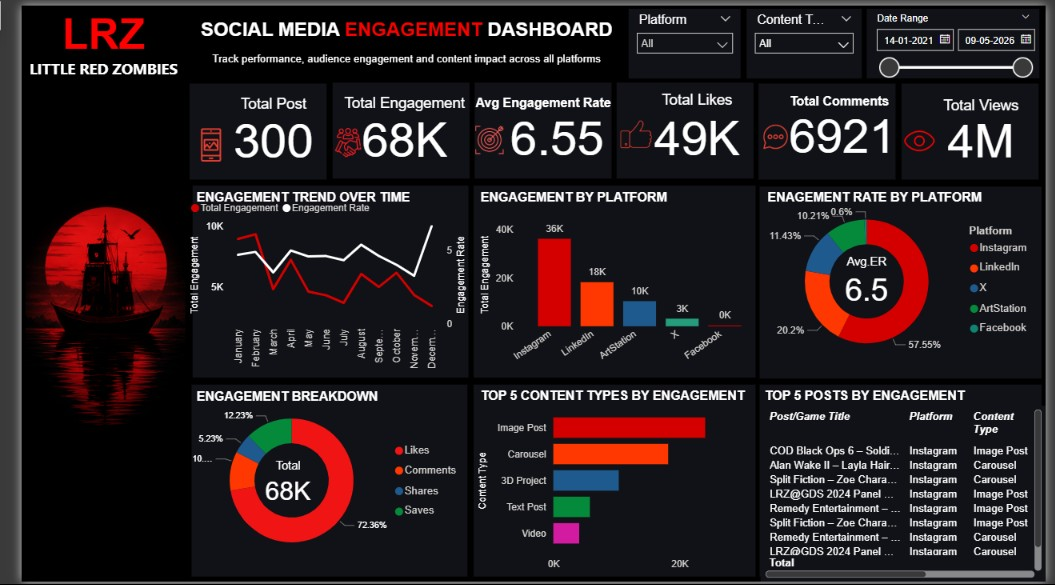

The dashboard page shown, as its layout file describes it:
{"tool":"powerbi","page":{"name":"Overview","canvas":[1280,720],"ordinal":0},"visuals":[{"type":"group","id":"g1","title":"Group 3","box":[210,96.2,1067.5,137.5],"z":0},{"type":"group","id":"g2","title":"Group 2","box":[210,96.2,1061.2,121.2],"z":0,"group":"g1"},{"type":"shape","box":[921.2,97.4,171.2,120],"z":0,"group":"g2"},{"type":"shape","box":[922.5,473.8,352.5,240],"z":0,"group":"g3"},{"type":"shape","box":[1100,97.4,171.2,120],"z":1000,"group":"g2"},{"type":"group","id":"g3","title":"Group 4","box":[212.5,225,1062.5,488.8],"z":1000},{"type":"shape","box":[565,225,352.5,240],"z":1000,"group":"g3"},{"type":"shape","box":[388.8,96.2,171.2,120],"z":2000,"group":"g2"},{"type":"shape","box":[922.5,226.2,352.5,240],"z":2000,"group":"g3"},{"type":"tableEx","fields":{"Values":["SocialMediaData.Post Topic / Game Title","SocialMediaData.Platform","SocialMediaData.Content Type","Sum(SocialMediaData.Engagement)","SocialMediaData.Engagement Rate"]},"box":[923.8,500,356.2,220],"z":2000},{"type":"shape","box":[0,0,205,720],"z":3000},{"type":"card","title":"Total Engagement","fields":{"Values":["SocialMediaData.Total Engagement"]},"box":[388.8,111.2,180,83.8],"z":3000,"group":"g1"},{"type":"shape","box":[213.7,225,345,240],"z":3000,"group":"g3"},{"type":"textbox","box":[0,0,205,112.5],"z":4000},{"type":"shape","box":[212.5,473.8,345,240],"z":4000,"group":"g3"},{"type":"card","title":"Total Views","fields":{"Values":["SocialMediaData.Total Views"]},"box":[1121.2,113.7,156.2,81.2],"z":5000,"group":"g1"},{"type":"lineChart","fields":{"Y":["SocialMediaData.Total Engagement"],"Category":["SocialMediaData.Date.Variation.Date Hierarchy.Month"],"Y2":["SocialMediaData.Engagement Rate"]},"box":[206,234,356,232],"z":5000},{"type":"shape","box":[565,473.8,352.5,240],"z":5000,"group":"g3"},{"type":"card","title":"Total Comments","fields":{"Values":["SocialMediaData.Total Comments"]},"box":[952.5,110,147.5,96.2],"z":6000,"group":"g1"},{"type":"clusteredColumnChart","fields":{"Category":["SocialMediaData.Platform"],"Y":["SocialMediaData.Total Engagement"]},"box":[568.8,257.5,358.8,207.5],"z":6000},{"type":"donutChart","fields":{"Category":["SocialMediaData.Platform"],"Y":["SocialMediaData.Avg Engagement Rate"]},"box":[923.8,225,347.5,240],"z":7000},{"type":"donutChart","fields":{"Y":["SocialMediaData.Total Likes","SocialMediaData.Total Comments","Sum(SocialMediaData.Shares)","Sum(SocialMediaData.Saves)"]},"box":[205,473.8,352.5,240],"z":8000},{"type":"clusteredBarChart","fields":{"Y":["SocialMediaData.Total Engagement"],"Category":["SocialMediaData.Content Type"]},"box":[566.2,488.8,351.2,225],"z":9000},{"type":"shape","box":[212.5,3.8,535,87.5],"z":10000},{"type":"image","box":[382.5,111.2,51.2,120],"z":11000},{"type":"textbox","box":[955,106.2,186.2,35],"z":12000},{"type":"group","id":"g4","title":"Group 1","box":[213.5,3.8,1058.8,87.5],"z":13000},{"type":"image","box":[743.8,101.2,48.8,118.8],"z":13000,"group":"g1"},{"type":"slicer","fields":{"Values":["SocialMediaData.Date"]},"box":[1056,3.8,216.2,87.5],"z":14000,"group":"g4"},{"type":"image","box":[1095.6,108.1,52.5,120],"z":14000,"group":"g1"},{"type":"slicer","fields":{"Values":["SocialMediaData.Content Type"]},"box":[906,3.8,143.8,87.5],"z":15000,"group":"g4"},{"type":"textbox","box":[927.5,226.2,310,28.8],"z":15000},{"type":"slicer","fields":{"Values":["SocialMediaData.Platform"]},"box":[758.5,3.8,140,87.5],"z":16000,"group":"g4"},{"type":"image","box":[211.2,115,51.2,118.8],"z":16000,"group":"g1"},{"type":"textbox","box":[568.8,226.2,310,28.8],"z":16000},{"type":"shape","box":[210,97.4,171.2,120],"z":17000,"group":"g2"},{"type":"image","box":[561.9,109,45,118.8],"z":17000,"group":"g1"},{"type":"textbox","box":[213.8,226.2,310,28.8],"z":17000},{"type":"image","box":[921.9,100.3,40,128.8],"z":18000,"group":"g1"},{"type":"textbox","box":[923.8,473.8,310,28.8],"z":18000},{"type":"textbox","box":[213.5,11.3,535,78.8],"z":19000,"group":"g4"},{"type":"card","title":"Total Post","fields":{"Values":["SocialMediaData.Total Posts"]},"box":[248.8,112.4,132.5,82.5],"z":19000,"group":"g1"},{"type":"textbox","box":[568.8,473.8,376.2,28.8],"z":19000},{"type":"shape","box":[566.2,96.2,171.2,120],"z":20000,"group":"g2"},{"type":"card","title":"Avg Engagement Rate","fields":{"Values":["SocialMediaData.Avg Engagement Rate"]},"box":[601.2,113.7,136.2,95],"z":20000,"group":"g1"},{"type":"textbox","box":[213.8,475,310,28.8],"z":20000},{"type":"card","title":"Avg.ER","fields":{"Values":["SocialMediaData.Avg Engagement Rate"]},"box":[968.8,311.2,175,67.5],"z":20001},{"type":"card","title":"Total","fields":{"Values":["SocialMediaData.Total Engagement"]},"box":[268.8,566.2,128.8,63.8],"z":20002},{"type":"image","box":[0,0,210,720],"z":20003},{"type":"shape","box":[743.8,96.2,171.2,120],"z":21000,"group":"g2"},{"type":"textbox","box":[562.5,107.4,186.2,35],"z":21000,"group":"g1"},{"type":"card","title":"Total Likes","fields":{"Values":["SocialMediaData.Total Likes"]},"box":[771.2,107.4,146.2,87.5],"z":22000,"group":"g1"}]}

Visuals, with their boxes in screenshot pixels (x1, y1, x2, y2), scaled from the page's 1280x720 canvas onto the 1055x585 screenshot:
"Group 3" group: select_region(173, 78, 1053, 190)
"Group 2" group: select_region(173, 78, 1048, 177)
shape: select_region(759, 79, 900, 177)
shape: select_region(760, 385, 1051, 580)
shape: select_region(907, 79, 1048, 177)
"Group 4" group: select_region(175, 183, 1051, 580)
shape: select_region(466, 183, 756, 378)
shape: select_region(320, 78, 462, 176)
shape: select_region(760, 184, 1051, 379)
tableEx - SocialMediaData.Post Topic / Game Title x SocialMediaData.Platform: select_region(761, 406, 1054, 584)
shape: select_region(0, 0, 169, 584)
"Total Engagement" card: select_region(320, 90, 469, 158)
shape: select_region(176, 183, 460, 378)
textbox: select_region(0, 0, 169, 91)
shape: select_region(175, 385, 460, 580)
"Total Views" card: select_region(924, 92, 1053, 158)
lineChart - SocialMediaData.Total Engagement x SocialMediaData.Date.Variation.Date Hierarchy.Month: select_region(170, 190, 463, 379)
shape: select_region(466, 385, 756, 580)
"Total Comments" card: select_region(785, 89, 907, 168)
clusteredColumnChart - SocialMediaData.Platform x SocialMediaData.Total Engagement: select_region(469, 209, 765, 378)
donutChart - SocialMediaData.Platform x SocialMediaData.Avg Engagement Rate: select_region(761, 183, 1048, 378)
donutChart - SocialMediaData.Total Likes x SocialMediaData.Total Comments: select_region(169, 385, 460, 580)
clusteredBarChart - SocialMediaData.Total Engagement x SocialMediaData.Content Type: select_region(467, 397, 756, 580)
shape: select_region(175, 3, 616, 74)
image: select_region(315, 90, 357, 188)
textbox: select_region(787, 86, 941, 115)
"Group 1" group: select_region(176, 3, 1049, 74)
image: select_region(613, 82, 653, 179)
slicer - SocialMediaData.Date: select_region(870, 3, 1049, 74)
image: select_region(903, 88, 946, 185)
slicer - SocialMediaData.Content Type: select_region(747, 3, 865, 74)
textbox: select_region(764, 184, 1020, 207)
slicer - SocialMediaData.Platform: select_region(625, 3, 741, 74)
image: select_region(174, 93, 216, 190)
textbox: select_region(469, 184, 724, 207)
shape: select_region(173, 79, 314, 177)
image: select_region(463, 89, 500, 185)
textbox: select_region(176, 184, 432, 207)
image: select_region(760, 81, 793, 186)
textbox: select_region(761, 385, 1017, 408)
textbox: select_region(176, 9, 617, 73)
"Total Post" card: select_region(205, 91, 314, 158)
textbox: select_region(469, 385, 779, 408)
shape: select_region(467, 78, 608, 176)
"Avg Engagement Rate" card: select_region(496, 92, 608, 170)
textbox: select_region(176, 386, 432, 409)
"Avg.ER" card: select_region(799, 253, 943, 308)
"Total" card: select_region(222, 460, 328, 512)
image: select_region(0, 0, 173, 584)
shape: select_region(613, 78, 754, 176)
textbox: select_region(464, 87, 617, 116)
"Total Likes" card: select_region(636, 87, 756, 158)
